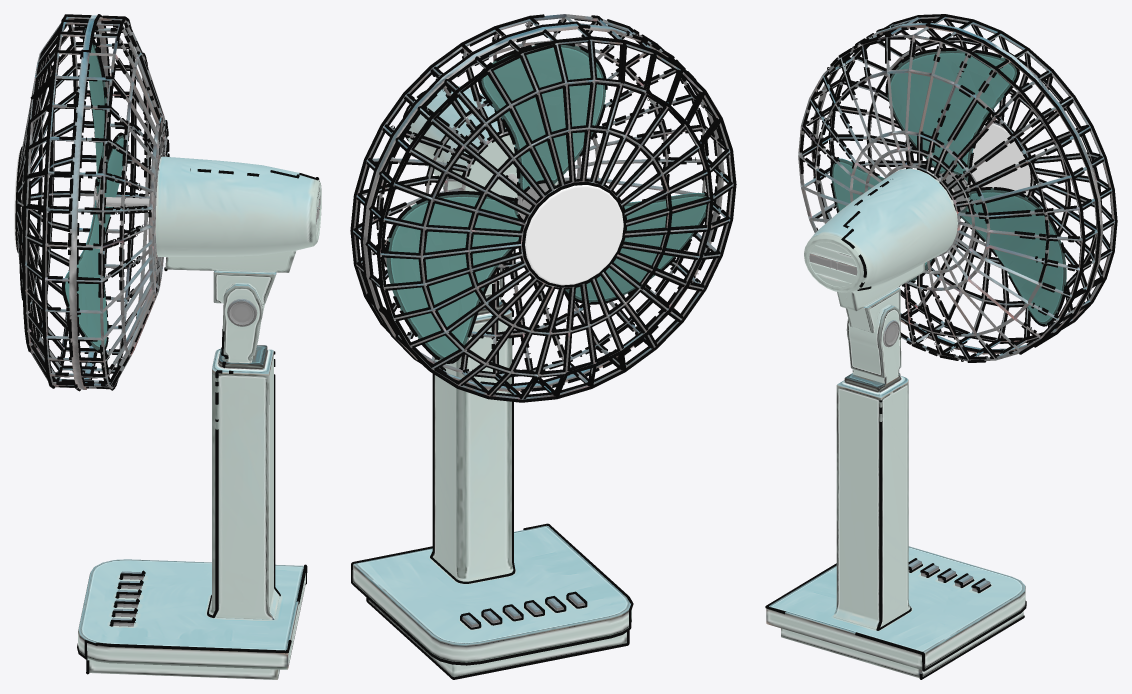
File: TableFan.glb
3 views of the same model, side by side, from view 1: azimuth 30°, elevation 25°; view 2: azimuth 150°, elevation 25°; view 3: azimuth 270°, elevation 25° (orthographic). The views are drawn at different scales.
Visible parts, largest first — view 1: LineArt_Curve, Cube.031, Cylinder.008, Cylinder.010, Cube.030, Cube.029, Cylinder.010_Plate, Cube.032, Cube.033, Cube.034, Cube.035, Cylinder.009; view 2: LineArt_Curve, Cylinder.010, Cube.029, Cube.031, Cube.030, Cylinder.012, Cylinder.008, Cylinder.010_Plate, Cube.032, Cube.035; view 3: LineArt_Curve, Cylinder.010, Cube.030, Cube.029, Cube.031, Cylinder.008, Cube.033, Cylinder.010_Plate, Cylinder.012, Cube.032, Plane.013, Cube.034.
Boxes of the visible parts, bbox=[...] form: LineArt_Curve: bbox=[15, 14, 319, 674]; Cube.031: bbox=[78, 559, 305, 669]; Cylinder.008: bbox=[155, 156, 321, 272]; Cylinder.010: bbox=[17, 16, 167, 389]; Cube.030: bbox=[209, 345, 279, 619]; Cube.029: bbox=[65, 28, 124, 350]; Cylinder.010_Plate: bbox=[69, 15, 108, 389]; Cube.032: bbox=[87, 659, 279, 679]; Cube.033: bbox=[222, 283, 264, 363]; Cube.034: bbox=[213, 270, 276, 304]; Cube.035: bbox=[111, 571, 143, 626]; Cylinder.009: bbox=[227, 299, 257, 326]; LineArt_Curve: bbox=[350, 14, 736, 679]; Cylinder.010: bbox=[353, 14, 733, 399]; Cube.029: bbox=[386, 45, 706, 360]; Cube.031: bbox=[352, 525, 631, 662]; Cube.030: bbox=[433, 301, 513, 581]; Cylinder.012: bbox=[525, 185, 623, 285]; Cylinder.008: bbox=[407, 86, 558, 198]; Cylinder.010_Plate: bbox=[363, 23, 724, 391]; Cube.032: bbox=[368, 600, 626, 677]; Cube.035: bbox=[462, 594, 585, 627]; LineArt_Curve: bbox=[765, 14, 1117, 679]; Cylinder.010: bbox=[798, 16, 1114, 361]; Cube.030: bbox=[833, 373, 910, 629]; Cube.029: bbox=[831, 49, 1066, 324]; Cube.031: bbox=[766, 546, 1025, 669]; Cylinder.008: bbox=[804, 168, 957, 311]; Cube.033: bbox=[846, 304, 901, 383]; Cylinder.010_Plate: bbox=[811, 23, 1103, 354]; Cylinder.012: bbox=[969, 122, 1030, 195]; Cube.032: bbox=[781, 611, 1023, 678]; Plane.013: bbox=[809, 242, 857, 286]; Cube.034: bbox=[845, 287, 900, 333].
Size of the model in its own units: 0.4062 by 0.7457 by 0.4194.
Materials: 3 (1 with a texture image).
